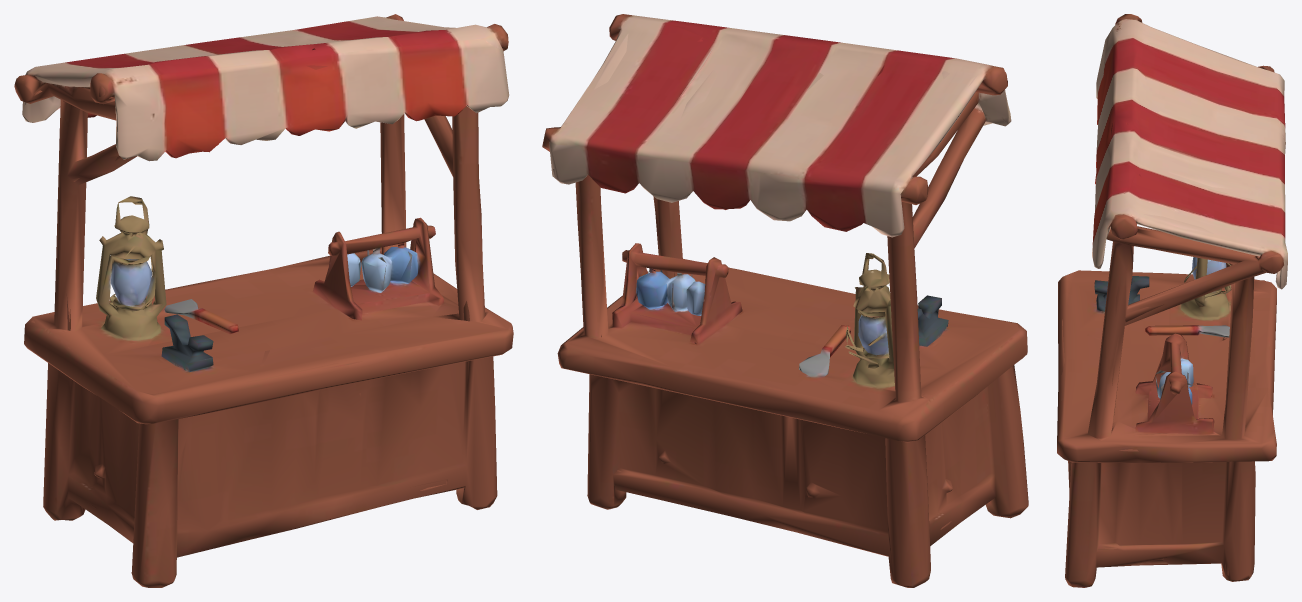
Rendered from stall.glb.
3 views of the same model, side by side, from view 1: azimuth 30°, elevation 25°; view 2: azimuth 150°, elevation 25°; view 3: azimuth 270°, elevation 25° (orthographic). The views are drawn at different scales.
Bounding box in the file's own units: 1.95 × 2.26 × 1.12.
Materials: 1 (1 with a texture image).
